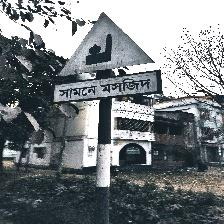Mosque in front: (55, 11, 159, 104)
